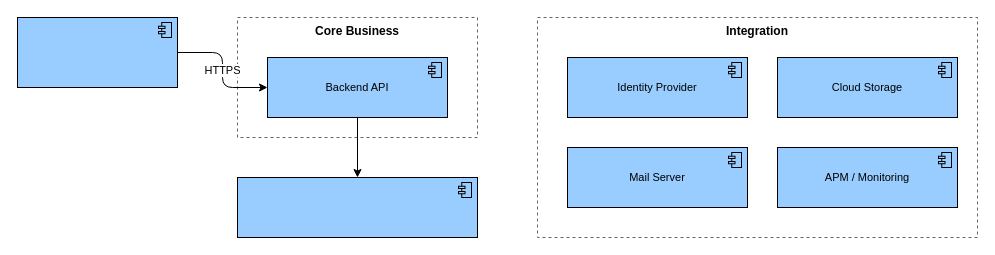
The diagram is 995 pixels wide and 255 high, and some of its shapes have lost their labels. The shapes that lost their labels are listed below. From the top down, each one's centre as x and y in pixels, then its label:
(x=97, y=52): Frontend SPA
(x=357, y=207): Primary Data Store
